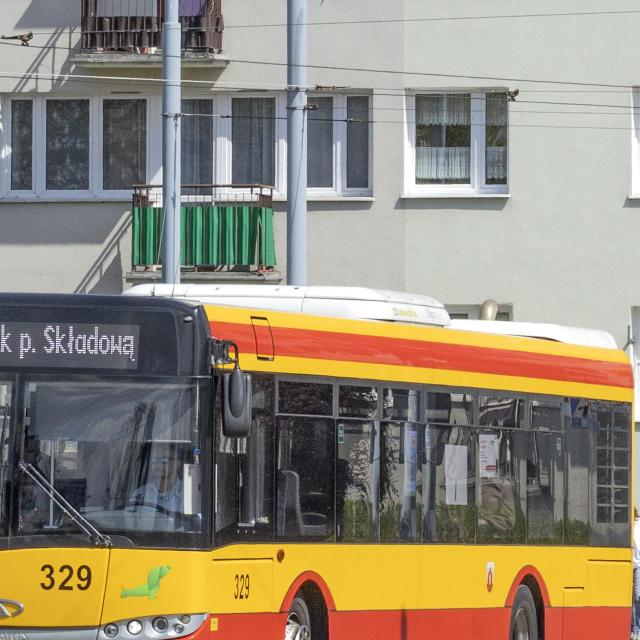Bus: (0, 285, 634, 640)
